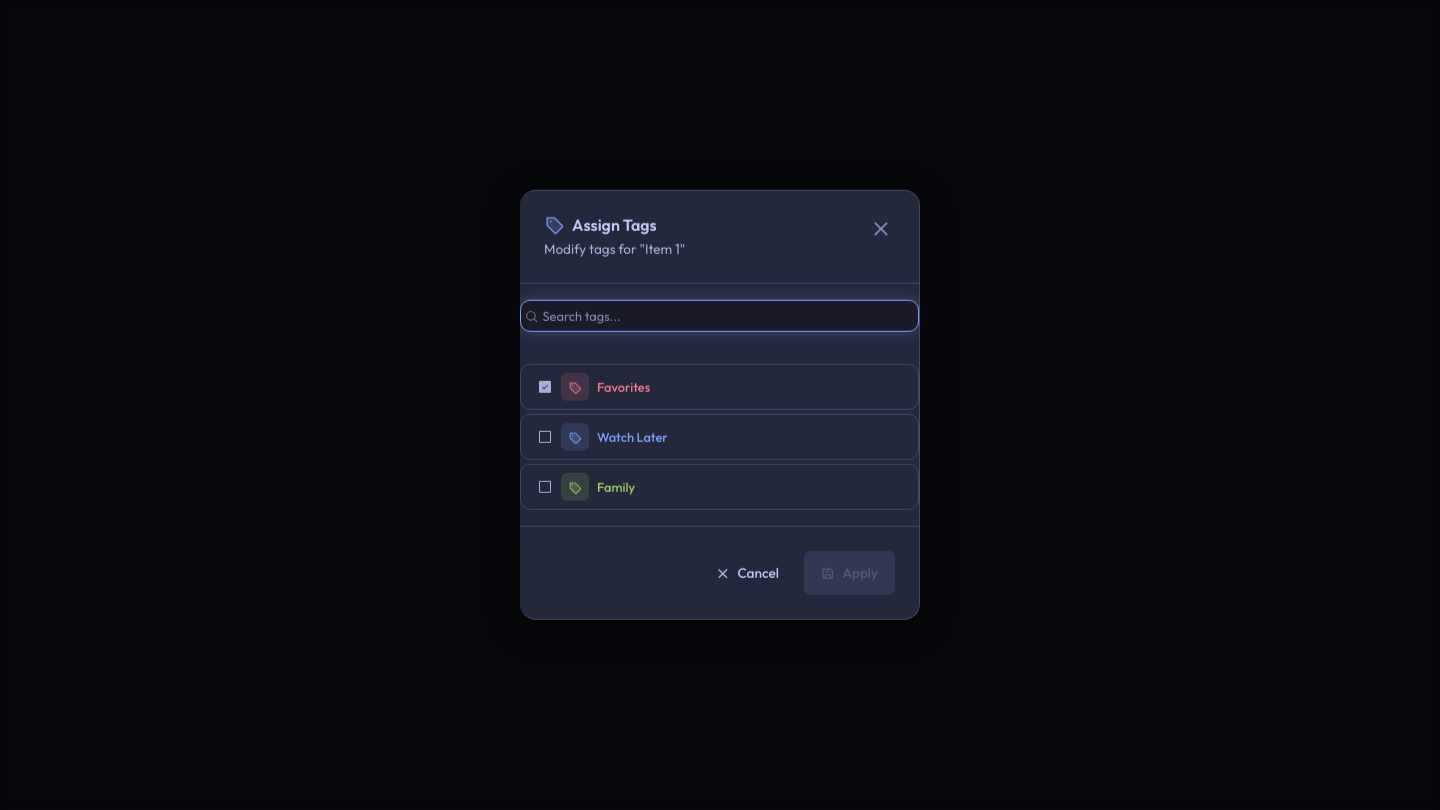
Test case: BulkTagAssignment › tag interactions › toggles tag to "remove" when clicking a checked tag
The width and height of the screenshot is (1440, 810).
Click the button "Favorites".
click(624, 387)  # box [520,364,919,410]
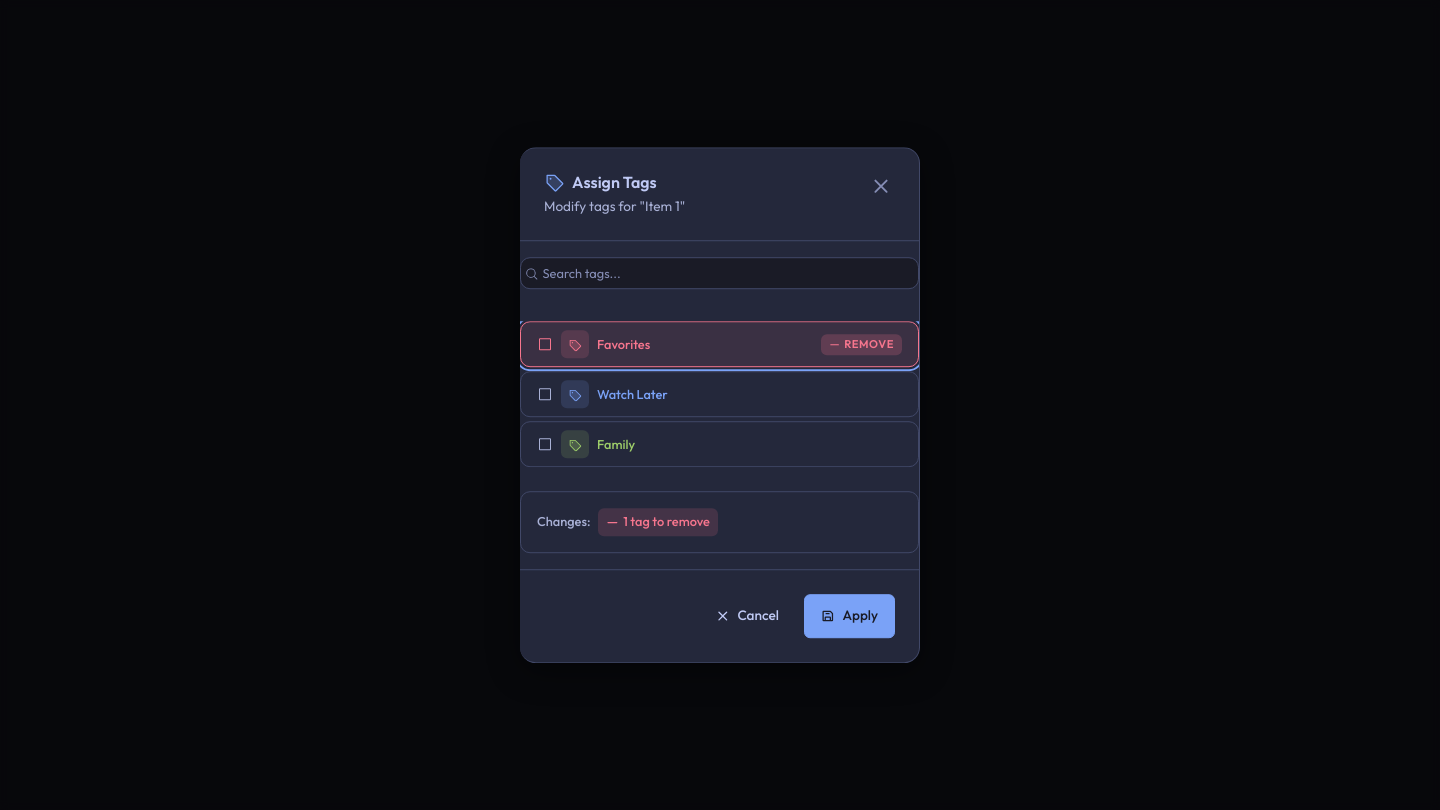
Expected: the text "Remove" is shown, [844,336,894,353]
